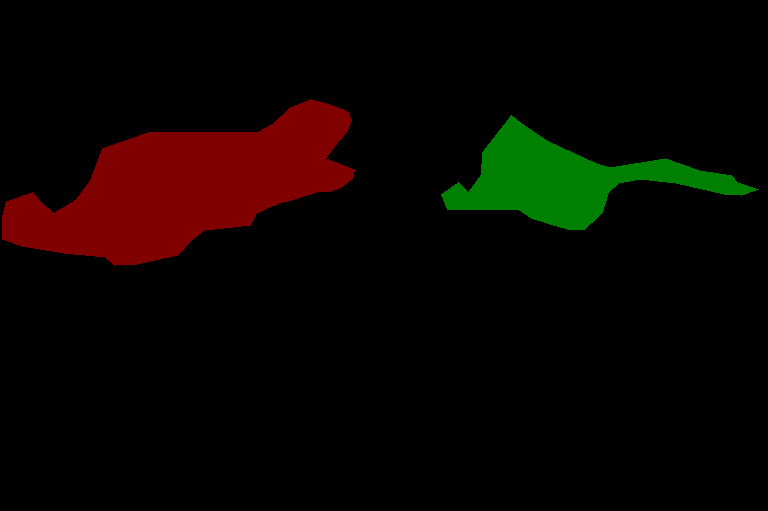fire: (2, 99, 354, 265), (441, 115, 758, 229)
